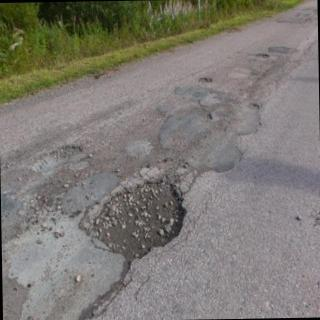pothole: (78, 180, 186, 265)
